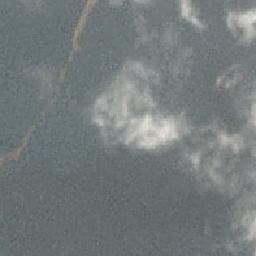cloud: (95, 66, 181, 155), (188, 113, 244, 202), (226, 7, 254, 46), (175, 3, 208, 35)
debris: (74, 1, 98, 46), (12, 128, 26, 160), (60, 49, 71, 82)
